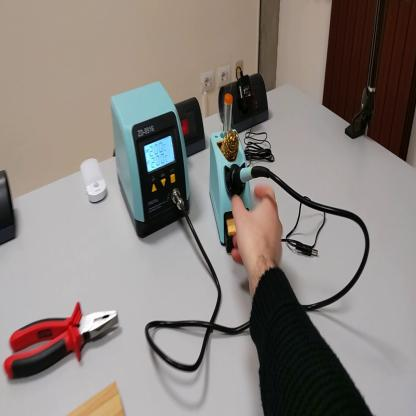hand: (230, 184, 284, 273)
pliers: (6, 295, 121, 380)
socket: (220, 66, 270, 138), (176, 93, 209, 161)
welder base: (213, 94, 256, 251)
welder probe tip: (226, 163, 271, 195)
welder station: (111, 79, 191, 239)
working area: (73, 383, 126, 414)
